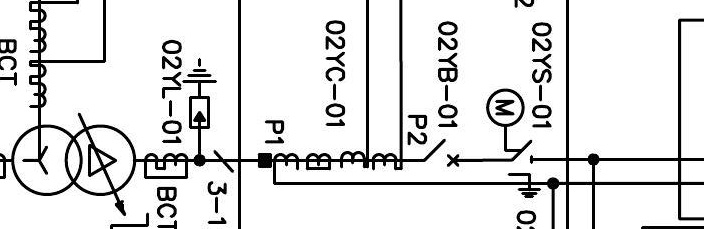11522_tx_dyn1: (10, 124, 137, 197)
115_3ways_ds_w_motor: (485, 87, 542, 199)
115_breaker: (423, 138, 460, 168)
115_la: (181, 57, 218, 130)
